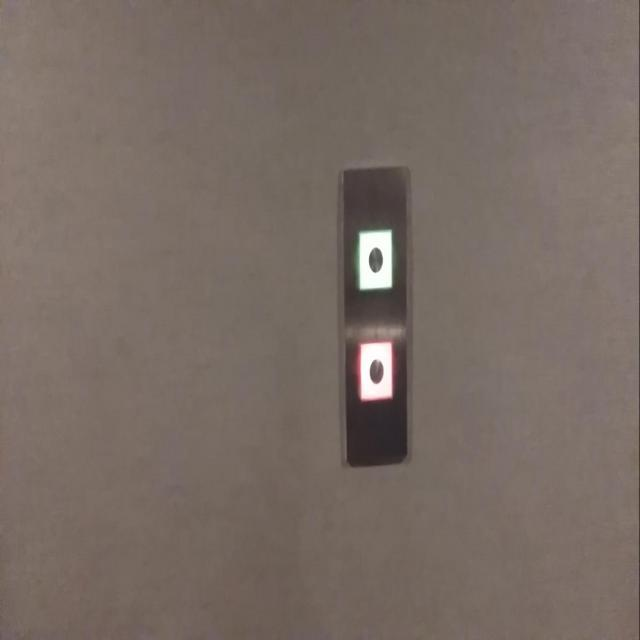empty: (354, 222, 394, 294), (358, 339, 394, 403)
